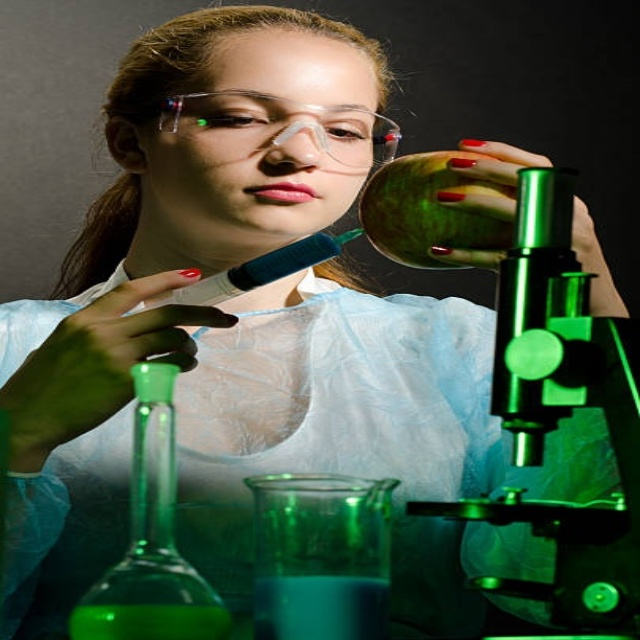Gafas: (150, 92, 403, 169)
Sin_guantes: (5, 267, 242, 464), (412, 140, 617, 290)
Sin_mascara: (221, 173, 335, 231)
